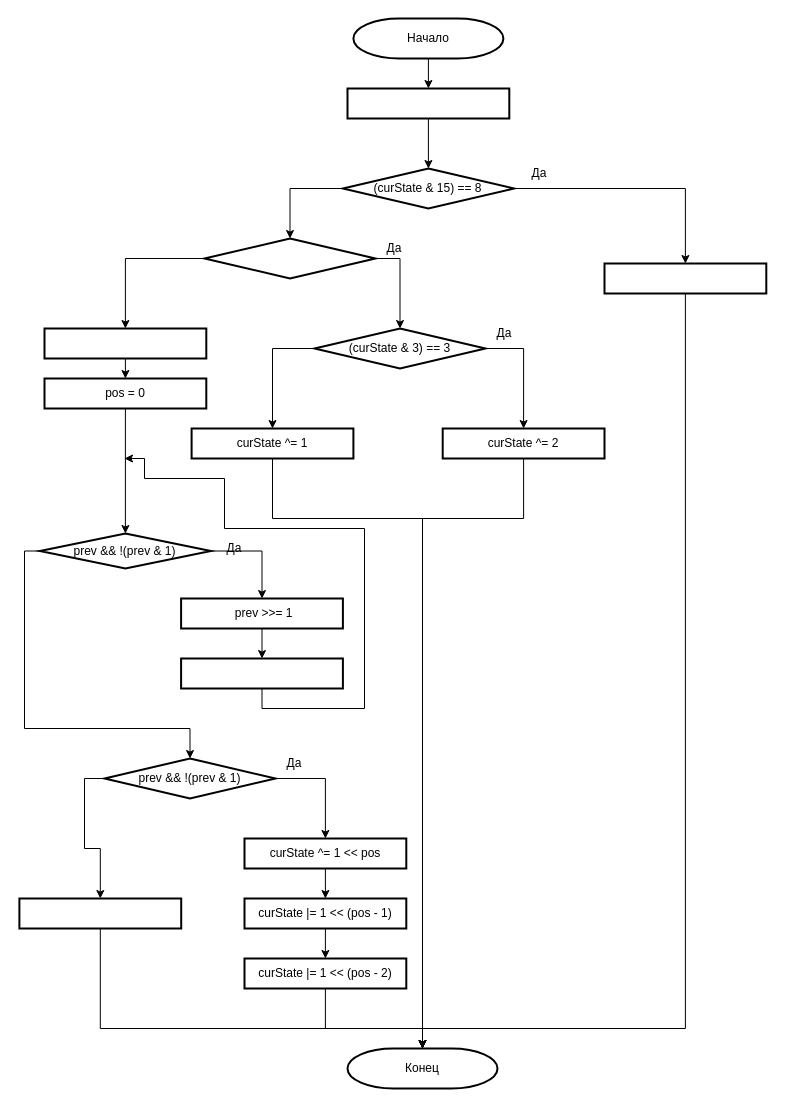
This 785x1106 diagram has some shape labels left out. Here are the shapes that lost their labels. From the top down, the box of each, then its label:
(346, 87, 510, 119): curState
(203, 237, 376, 279): curState & 1
(603, 262, 767, 294): curState -= 3
(43, 327, 207, 359): prev = curState
(180, 657, 343, 689): pos++
(18, 897, 182, 929): curState = 0
